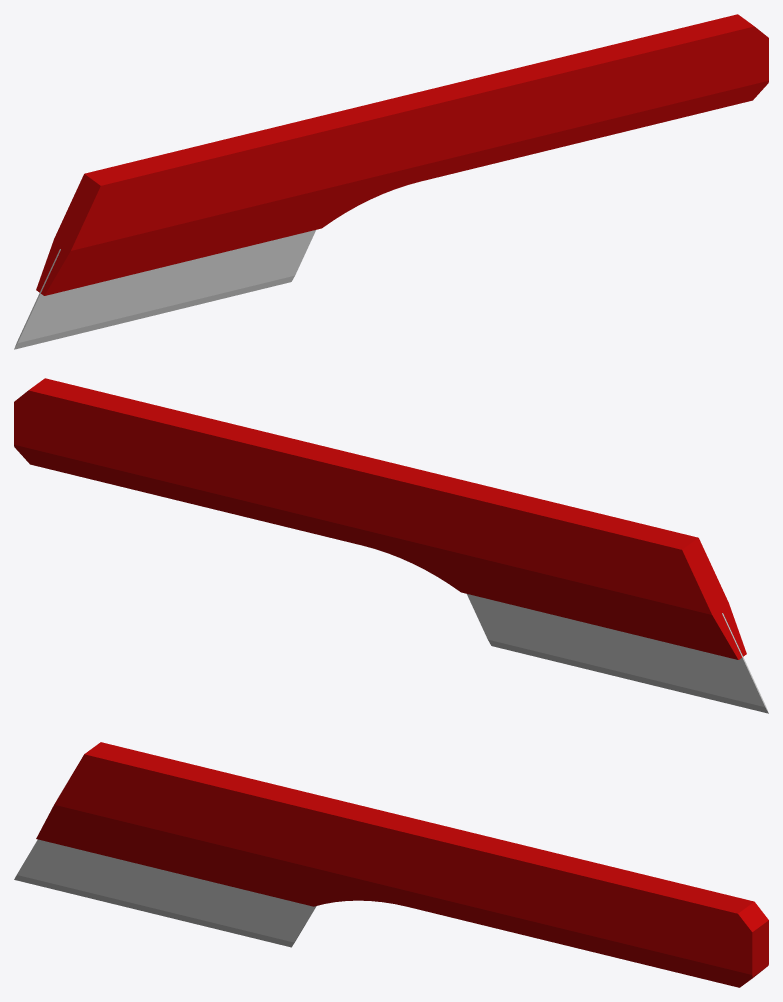
File: cutter_model.gltf
3 views of the same model, one above another, from view 1: azimuth 30°, elevation 25°; view 2: azimuth 150°, elevation 25°; view 3: azimuth 330°, elevation 25° (orthographic).
Visible parts, largest first — view 1: Cutter.SLDPRT; view 2: Cutter.SLDPRT; view 3: Cutter.SLDPRT.
Boxes of the visible parts, x1,y1,x2,y2 form: Cutter.SLDPRT: (14,14,768,349); Cutter.SLDPRT: (14,378,768,713); Cutter.SLDPRT: (14,742,768,987).
Bounding box in the file's own units: 0.1555 × 0.03 × 0.006.
